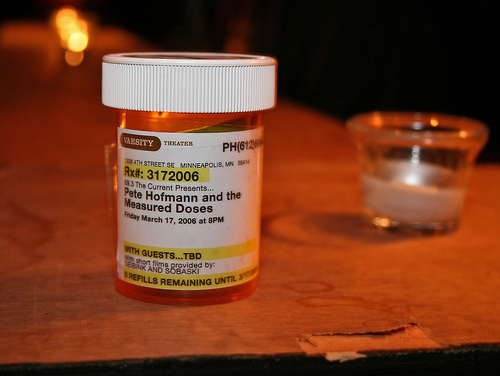pill bottle: (95, 45, 279, 309)
